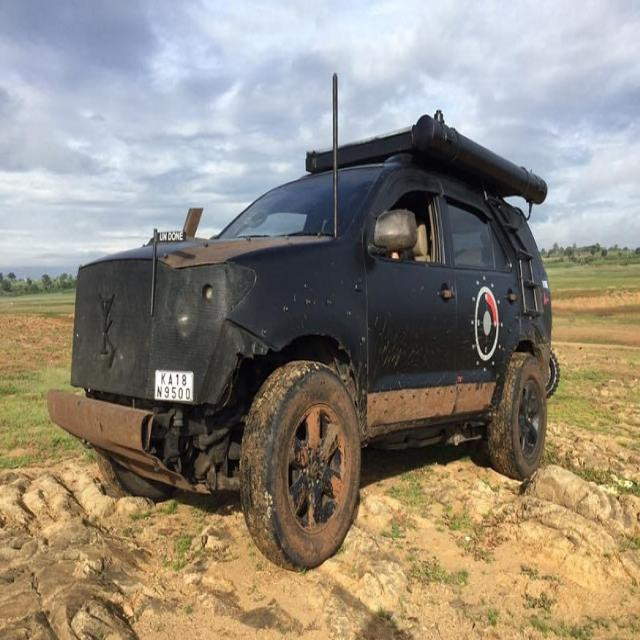plate: (155, 371, 193, 404)
